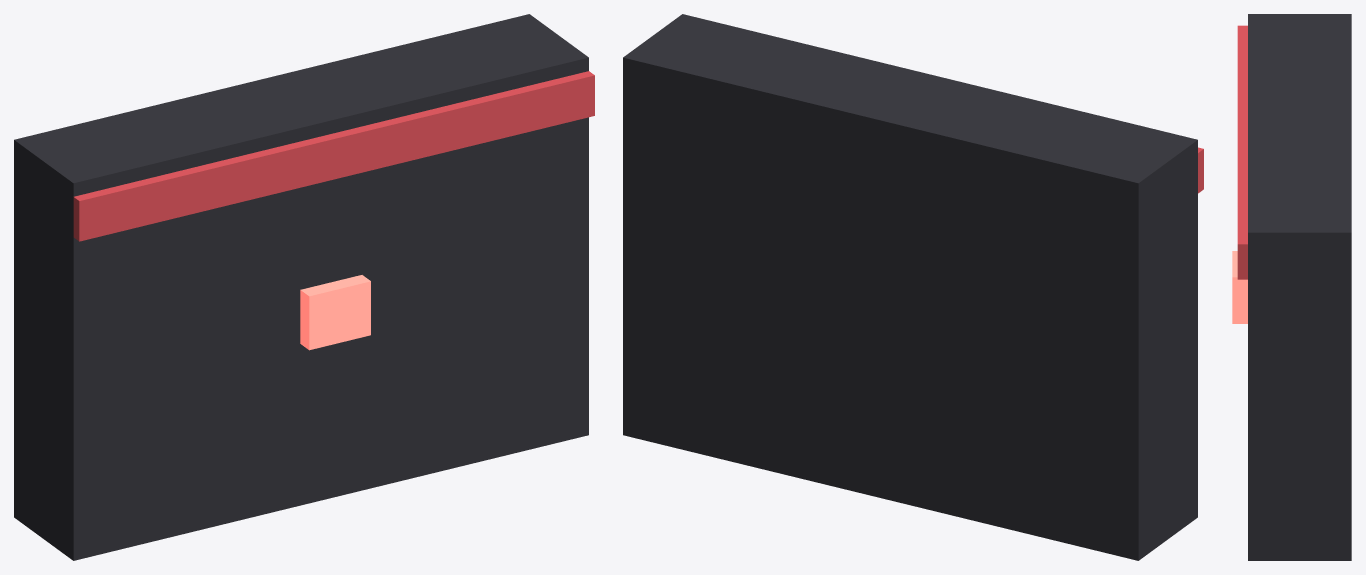
The model's file is item_F2_BreachCharge.glb.
3 renders of one model, left to right at view 1: azimuth 30°, elevation 25°; view 2: azimuth 150°, elevation 25°; view 3: azimuth 270°, elevation 25°, orthographic. The views are drawn at different scales.
Parts seen in each view (by area): view 1: Item_F2_BreachCharge; view 2: Item_F2_BreachCharge; view 3: Item_F2_BreachCharge.
Part boxes in pixels (<box>): Item_F2_BreachCharge: <box>14,14,594,560</box>; Item_F2_BreachCharge: <box>623,14,1203,560</box>; Item_F2_BreachCharge: <box>1232,14,1351,560</box>.
Bounding box in the file's own units: 0.2 × 0.14 × 0.046.
